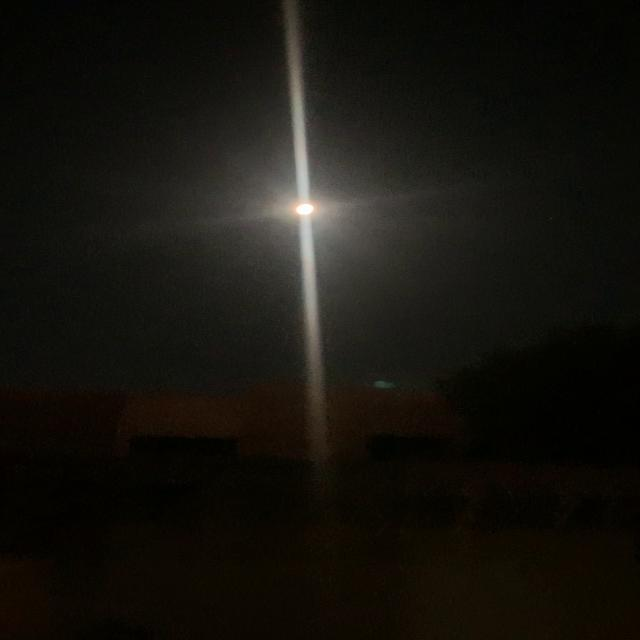moon: (274, 193, 336, 226)
